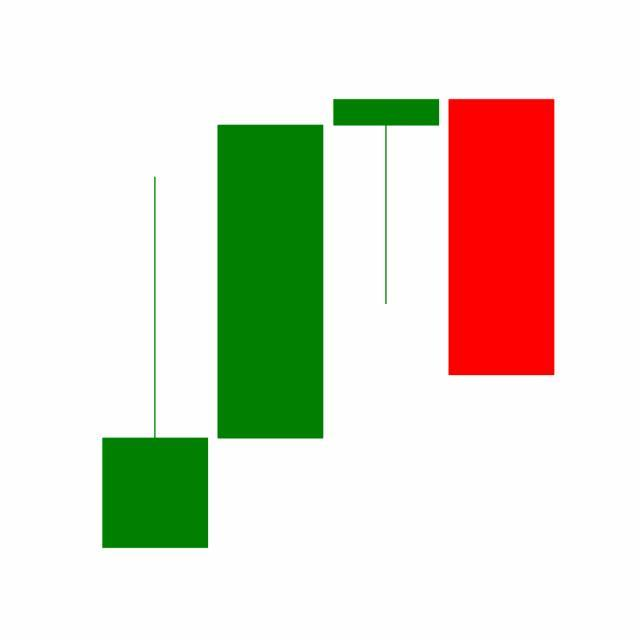Hanging Man: (329, 97, 445, 308)
